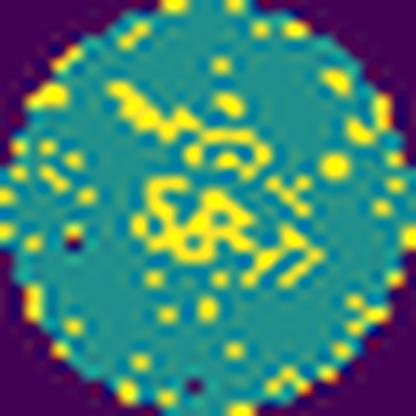Center: (111, 84, 327, 290)
